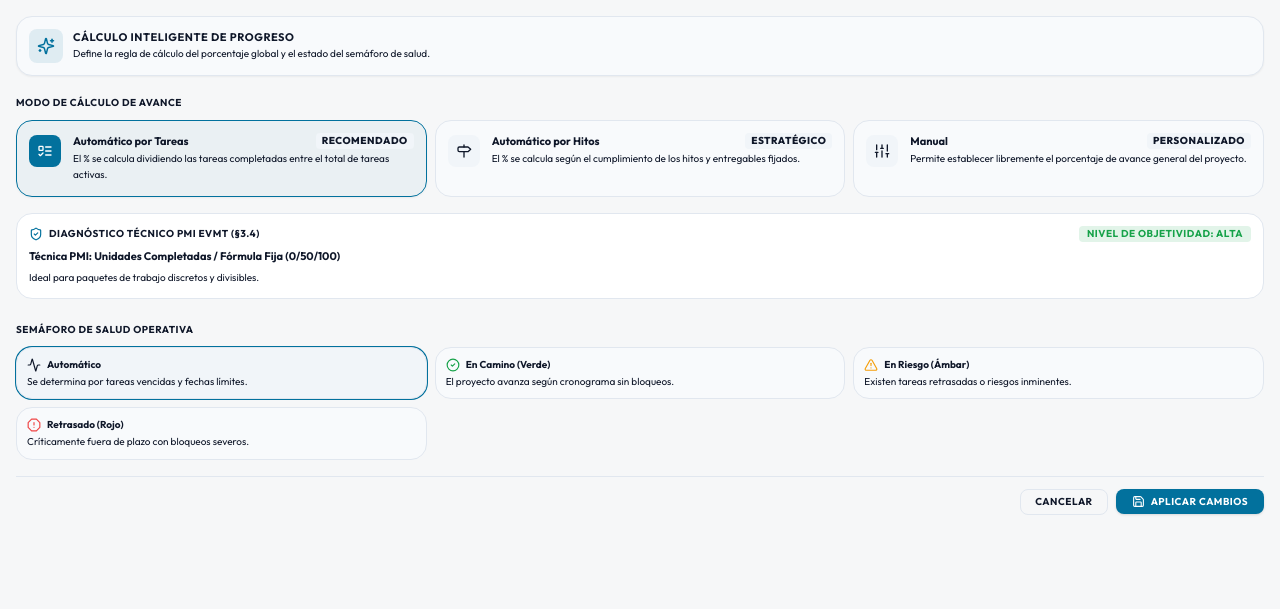
Test: ProgressSettingsDrawer PMI EVMT Advisor & Governance › shows PMI governance override warning when healthOverride is set even in auto_tasks mode
Click the text "En Riesgo (Ámbar)" at {"x": 927, "y": 365}, box [884, 359, 969, 371]
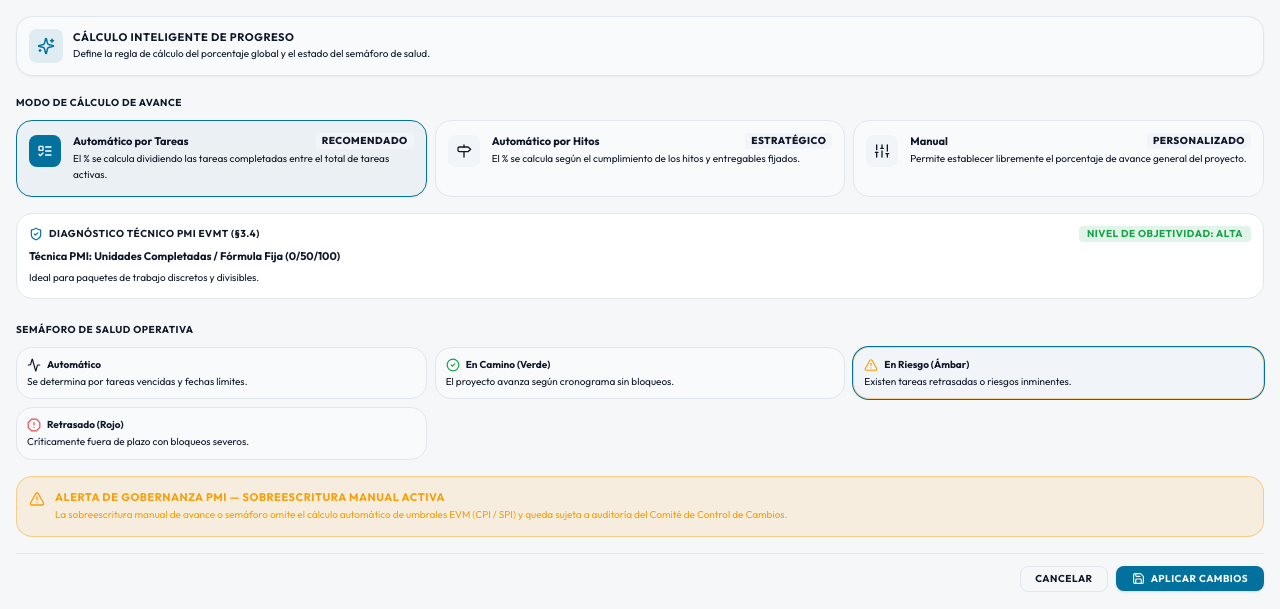
Check: the element with test id "progress-settings-pmi-override-warning" is shown, box [16, 476, 1264, 537]
Check: the element with test id "progress-settings-pmi-override-warning" shows "CPI / SPI", box [55, 508, 788, 521]
